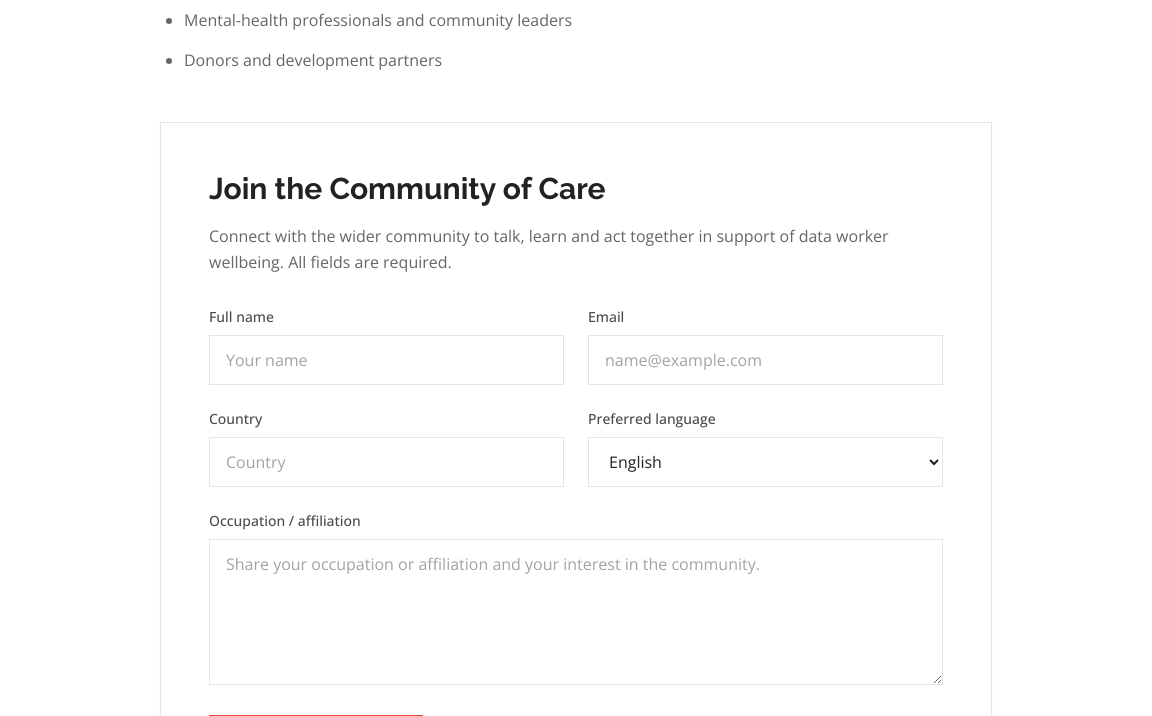
Test: preserves details when registration fails: rejection
This screenshot has width=1152, height=716.
(page scrolled)
Step 1. Type "Test Member" into the field labelled "Full name" → (386, 360), box [209,335,564,385]
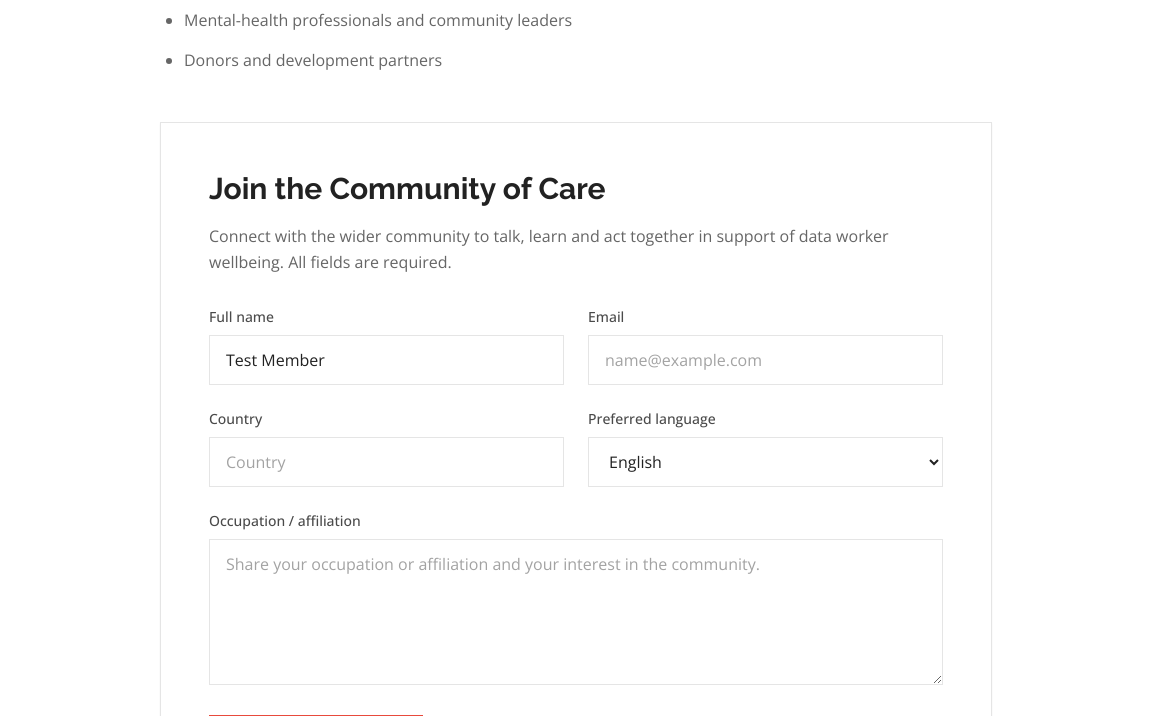
Step 2. Type "member@example.com" into the field labelled "Email" → (766, 360), box [588,335,943,385]
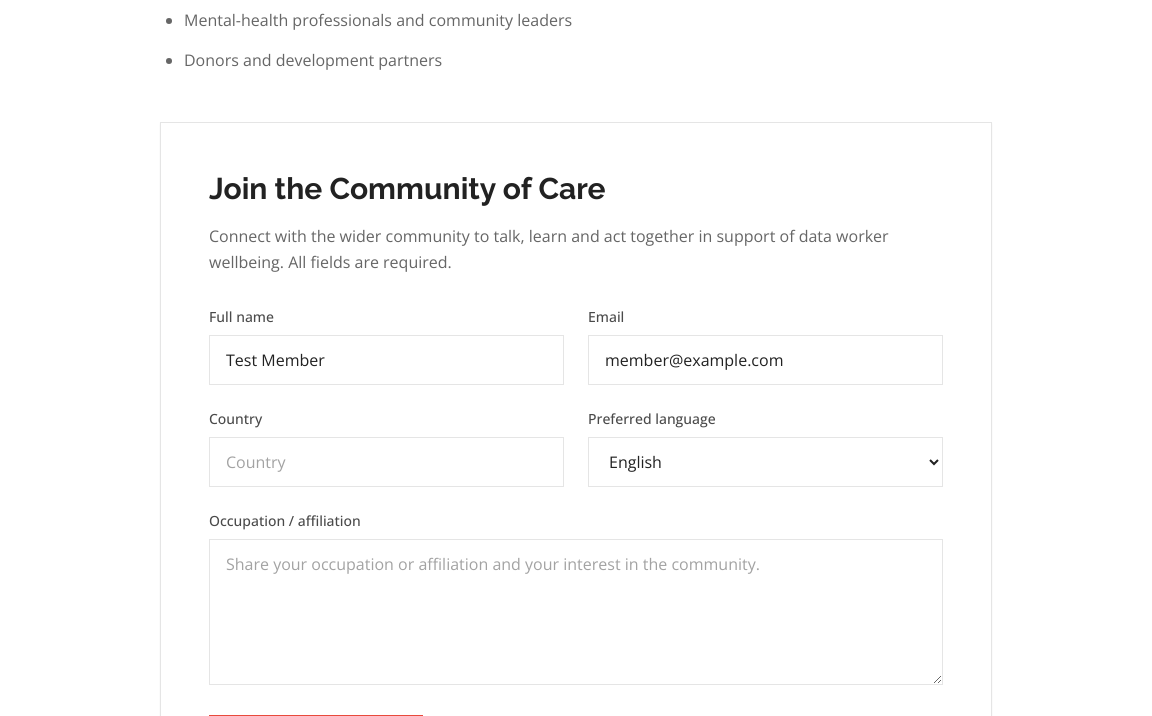
Step 3. Type "Nigeria" into the field labelled "Country" → (386, 462), box [209,437,564,487]
(page scrolled)
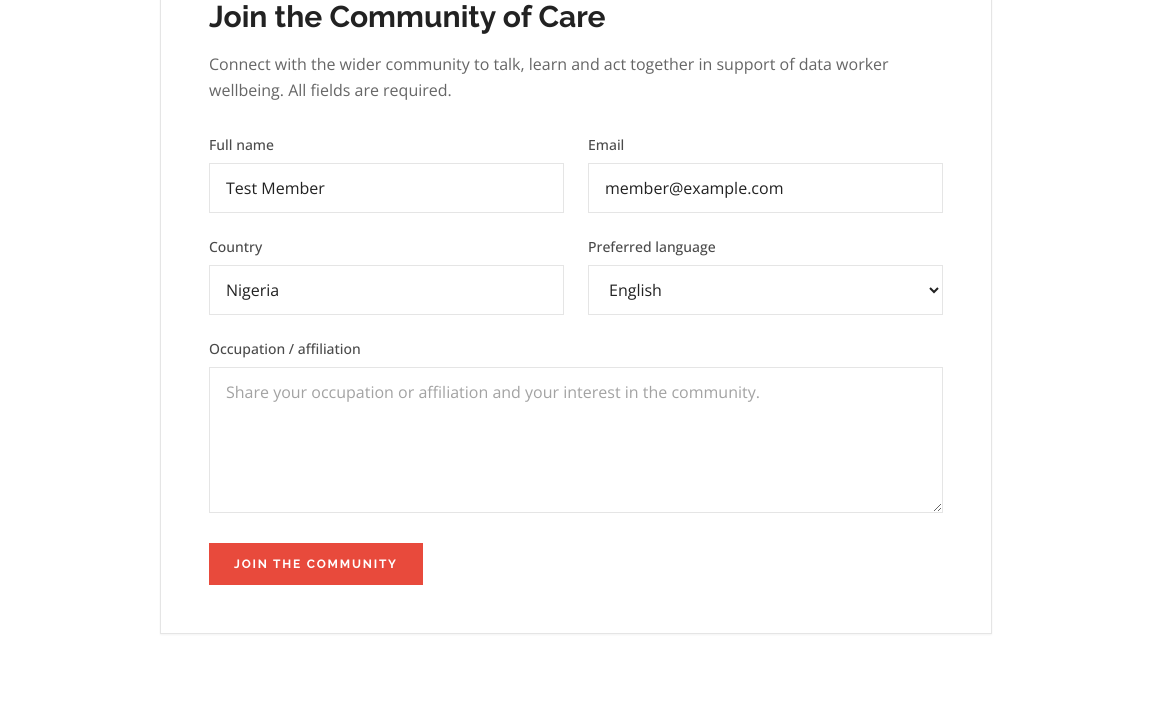
Step 4. Submit the form named "Join the community", box [209,135,943,585]
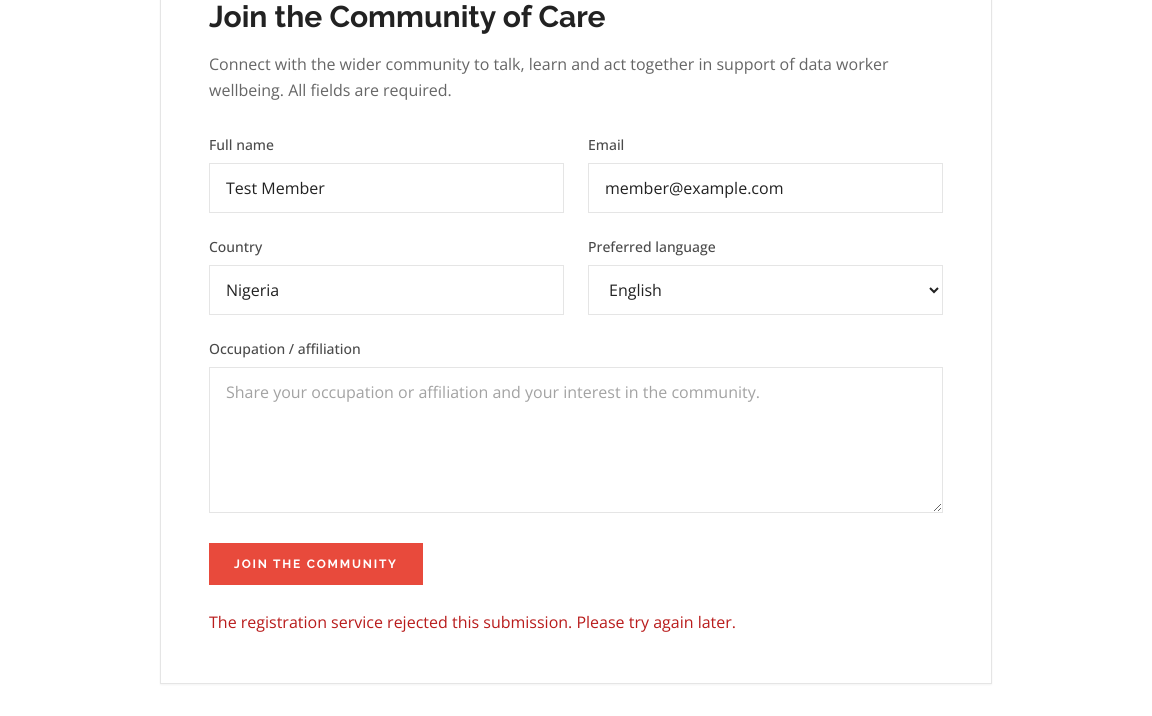
Expected: the button "Join the community" is enabled, [209,543,423,585]
Expected: the message "The registration service rejected this submission. Please try again later." is shown, [209,611,736,633]
